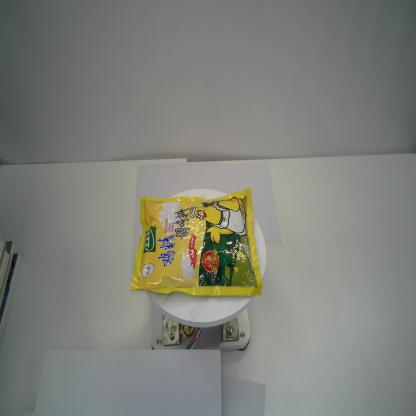Seasoner: (126, 186, 264, 298)
